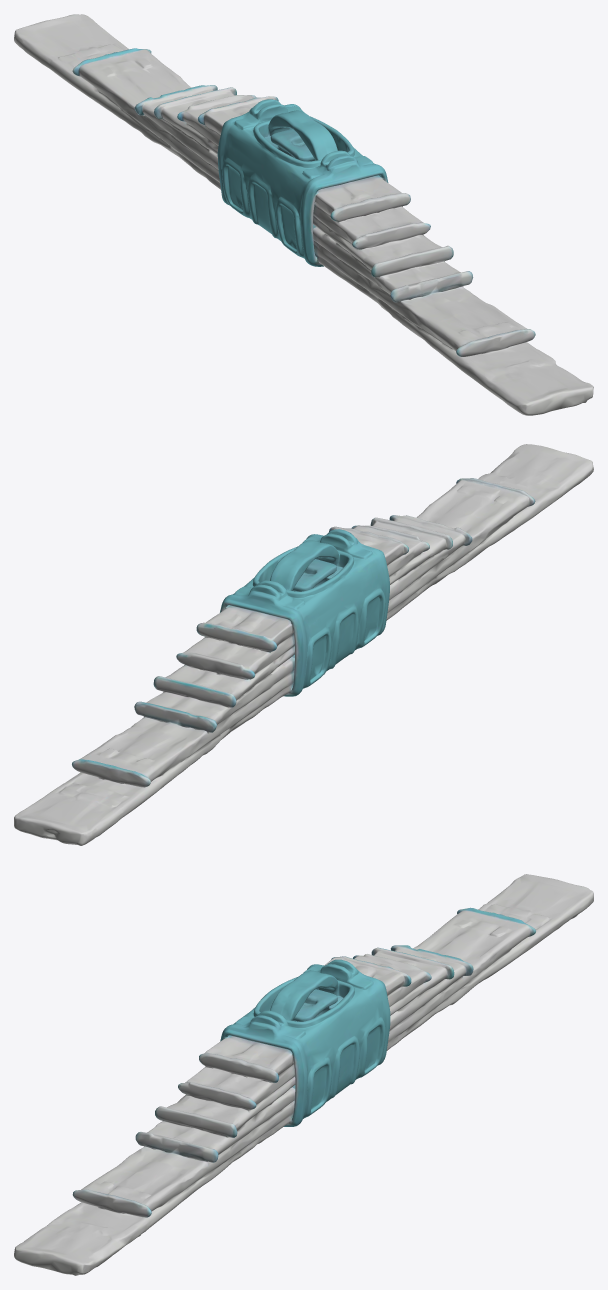
The model's file is aluminum-box-screed-set.glb.
3 renders of one model, top to bottom at view 1: azimuth 30°, elevation 25°; view 2: azimuth 150°, elevation 25°; view 3: azimuth 330°, elevation 25°, orthographic.
Parts seen in each view (by area): view 1: tripo_node_c52ea38e-ac7f-4a29-9682-f224c027418f; view 2: tripo_node_c52ea38e-ac7f-4a29-9682-f224c027418f; view 3: tripo_node_c52ea38e-ac7f-4a29-9682-f224c027418f.
Part boxes in pixels (x1,y1,x2,y2): tripo_node_c52ea38e-ac7f-4a29-9682-f224c027418f: (14, 14, 593, 415); tripo_node_c52ea38e-ac7f-4a29-9682-f224c027418f: (14, 444, 593, 845); tripo_node_c52ea38e-ac7f-4a29-9682-f224c027418f: (14, 874, 593, 1275).
Size of the model in its own units: 0.102 by 0.1194 by 0.9999.
1 material, 1 textured.
